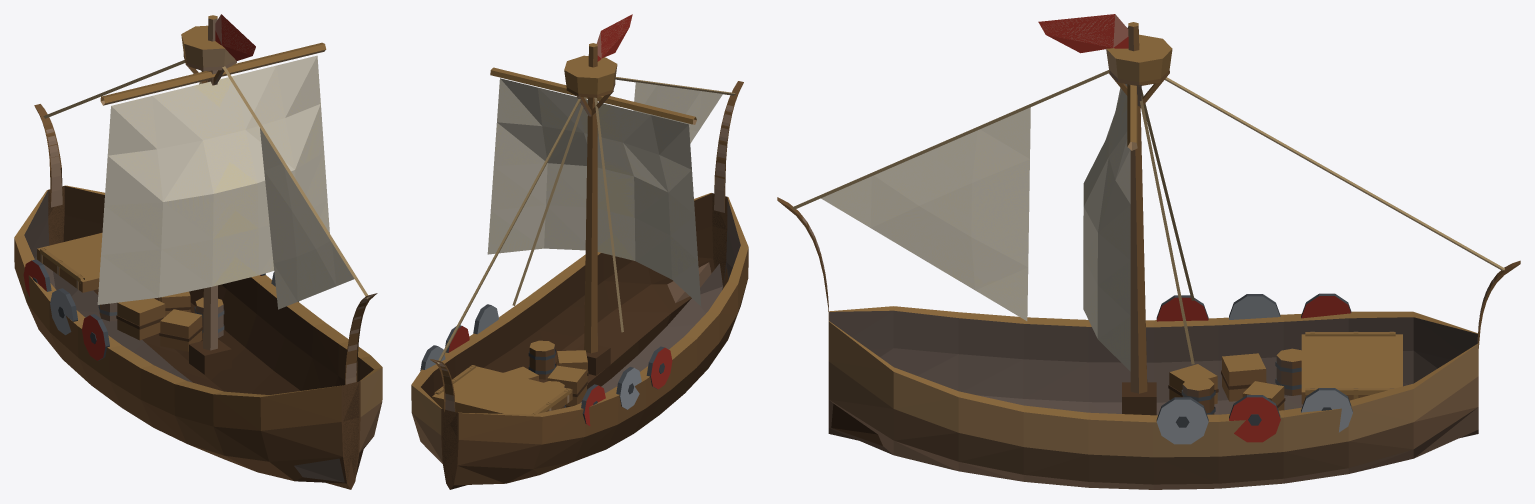
Rendered from boat_sail_b.glb.
3 renders of one model, left to right at view 1: azimuth 30°, elevation 25°; view 2: azimuth 150°, elevation 25°; view 3: azimuth 270°, elevation 25°, orthographic. The views are drawn at different scales.
Parts seen in each view (by area): view 1: boat_sail_b; view 2: boat_sail_b; view 3: boat_sail_b.
Boxes of the visible parts, x1,y1,x2,y2 form: boat_sail_b: (14,14,382,489); boat_sail_b: (411,14,748,489); boat_sail_b: (777,14,1520,489).
Bounding box in the file's own units: 4.11 × 7.04 × 10.3.
